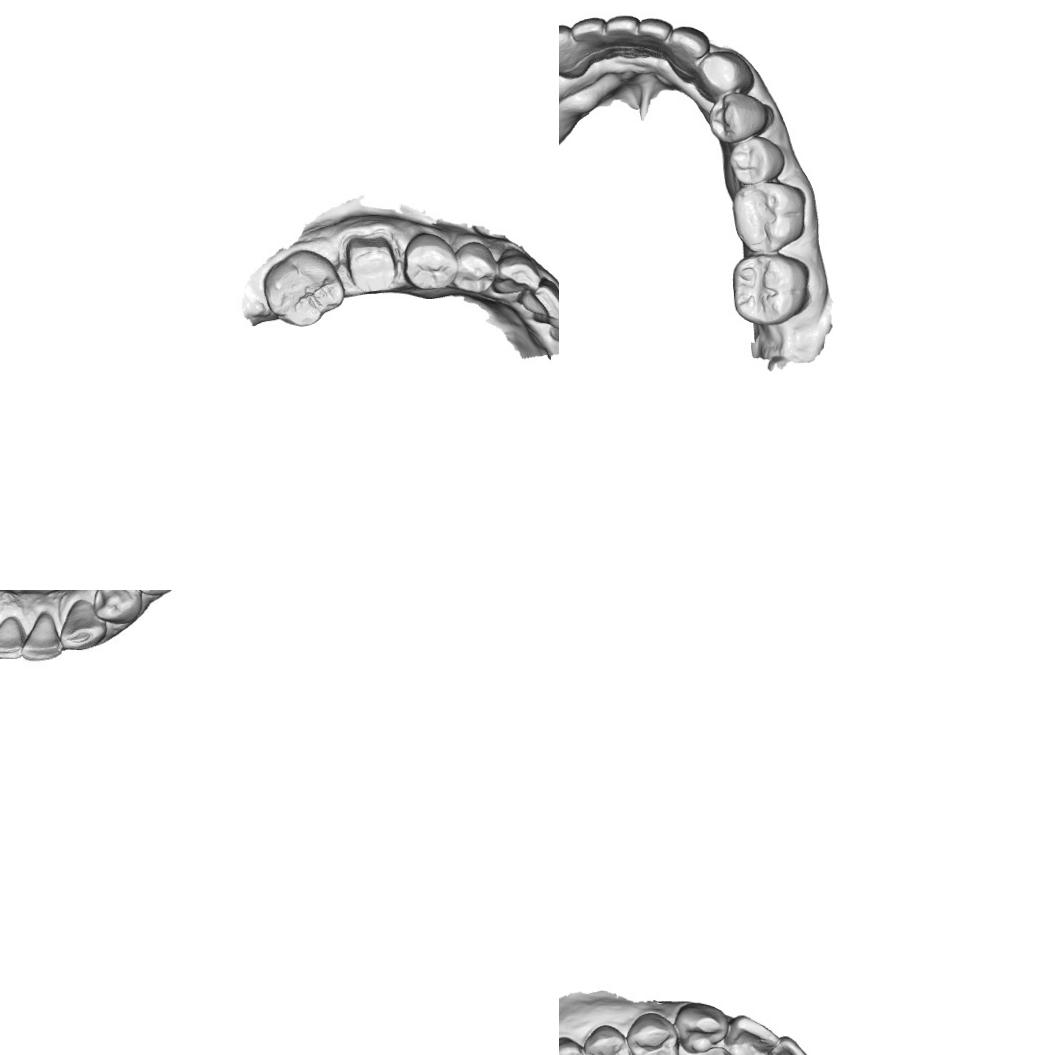canine: (691, 48, 755, 104), (673, 1000, 730, 1055), (55, 598, 106, 652), (492, 247, 542, 294), (559, 23, 575, 81)
crown: (340, 226, 401, 294)
incisor: (725, 1012, 782, 1055), (667, 24, 710, 80), (22, 610, 59, 662), (568, 16, 606, 65), (516, 277, 559, 320), (636, 18, 674, 60), (604, 13, 640, 56), (760, 1033, 823, 1055), (0, 614, 23, 662), (543, 300, 559, 334)
molar: (261, 247, 346, 328), (730, 180, 808, 256), (731, 253, 810, 327)
premolar: (706, 90, 772, 144), (402, 231, 459, 291), (727, 134, 786, 186), (623, 1009, 680, 1055), (452, 240, 498, 294), (581, 1022, 636, 1055), (93, 590, 143, 623)
